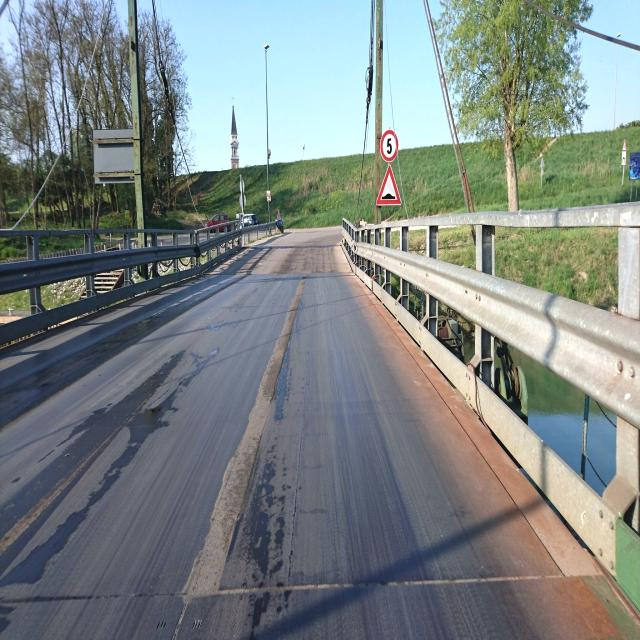car: (235, 212, 259, 230), (206, 214, 229, 232)
